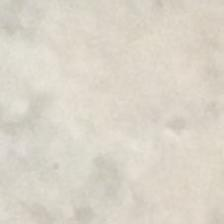Non_Crack: (35, 39, 206, 183)
